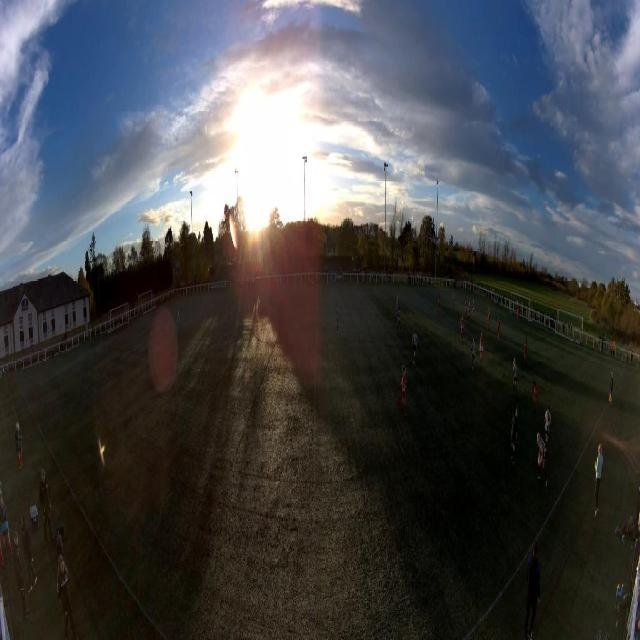ball: (537, 456, 541, 466)
player: (536, 433, 548, 485), (397, 367, 408, 416), (510, 407, 518, 464), (544, 404, 551, 445), (412, 326, 417, 365), (479, 332, 484, 368), (513, 359, 518, 393), (533, 381, 538, 413), (471, 338, 476, 370), (397, 307, 402, 335), (336, 302, 340, 334), (524, 337, 528, 365), (461, 315, 465, 343), (176, 310, 180, 337), (497, 318, 500, 343), (488, 308, 491, 330), (472, 300, 475, 321), (468, 300, 471, 321), (396, 295, 399, 315), (438, 294, 440, 315), (466, 299, 468, 319), (517, 305, 519, 322), (452, 293, 454, 308)
